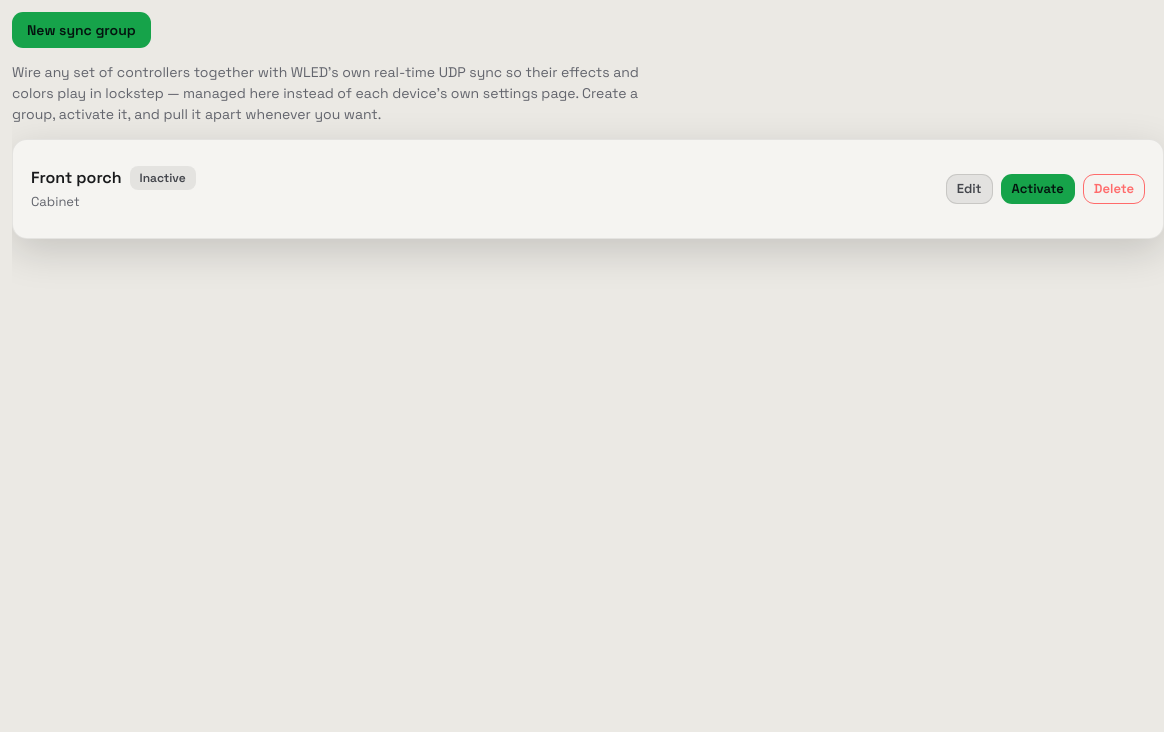
Test: SyncSection › toasts the server conflict message when activate fails with 409
Expected: the text "Front porch" is shown, [31,166,122,190]
Step 1. Click the button with aria-label "Activate Front porch" → (1038, 189), box [1001,174,1075,204]
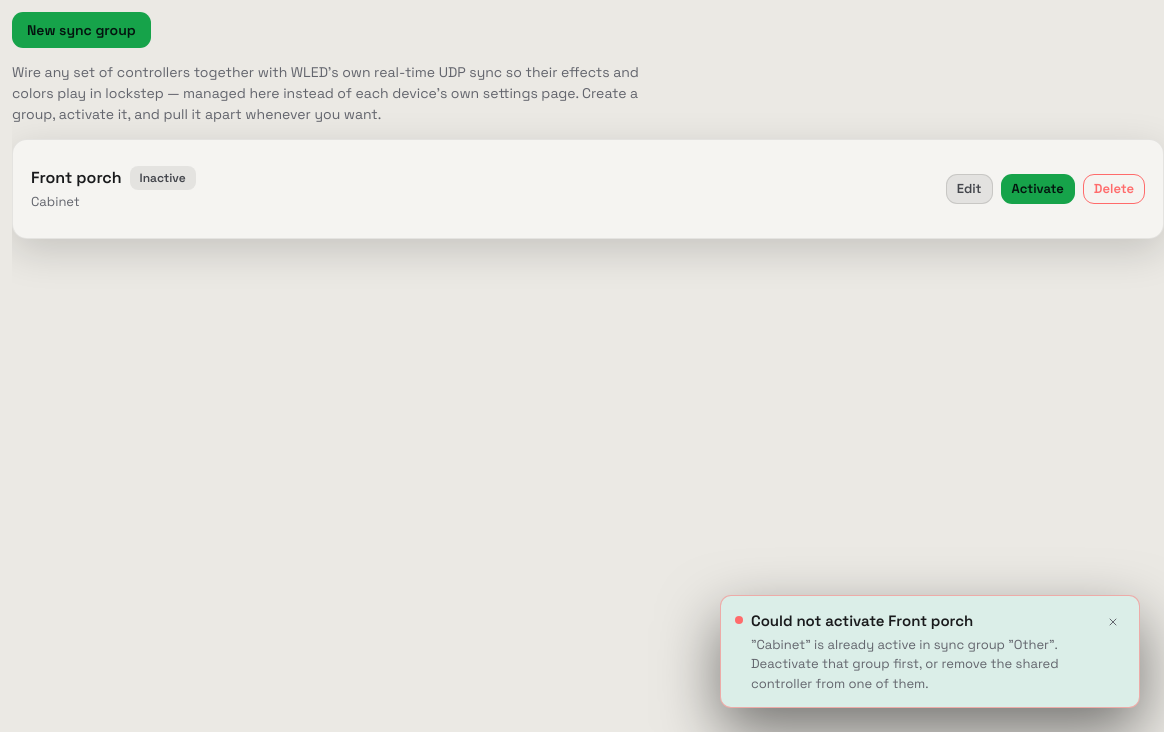
Now the text "Could not activate Front porch" is shown, box [751,611,973,630]
Now the text "\"Cabinet\" is already active in sync group \"Other\"" is shown, box [751,636,1059,692]
